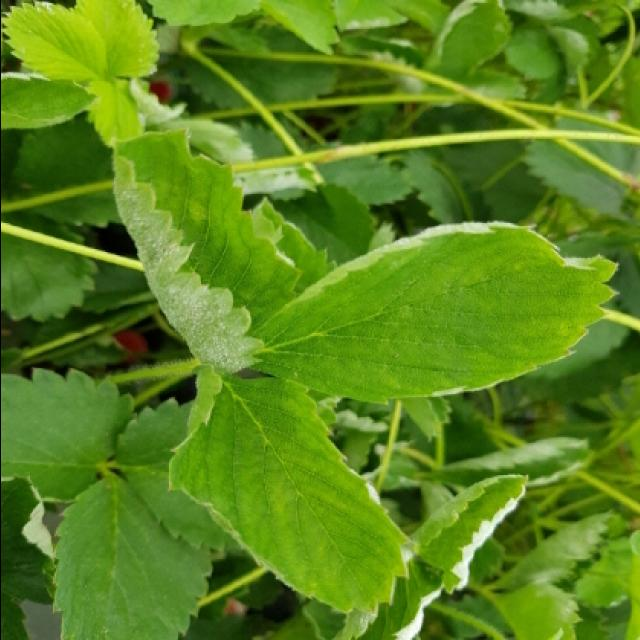Powdery Mildew Leaf: (246, 217, 621, 407), (166, 364, 410, 615), (112, 124, 301, 375), (407, 474, 530, 598), (424, 437, 594, 489), (331, 560, 441, 638)
